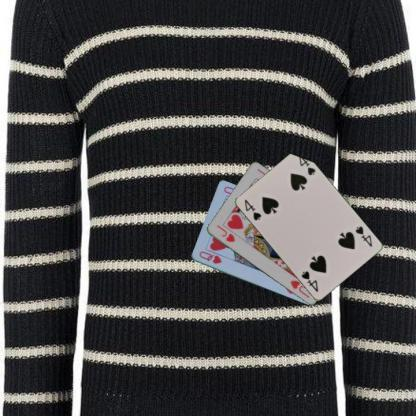4s: (352, 223, 374, 248), (242, 197, 262, 223)
Jh: (214, 222, 236, 243)
Qh: (196, 249, 223, 266)
